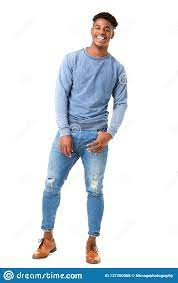person: (30, 10, 134, 265)
